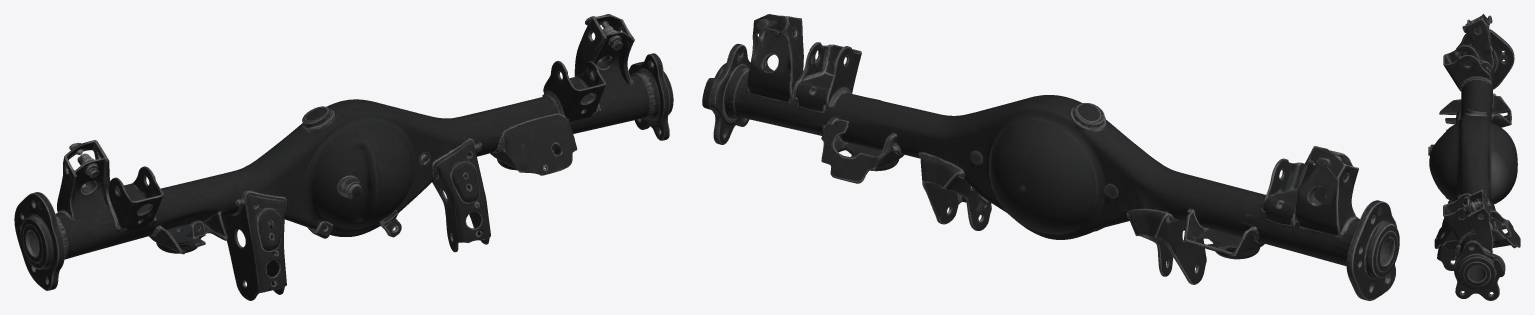
The model's file is rearaxle.glb.
The picture shows the model from 3 angles, left to right: view 1: azimuth 30°, elevation 25°; view 2: azimuth 150°, elevation 25°; view 3: azimuth 270°, elevation 25°; orthographic projection. The views are drawn at different scales.
Size of the model in its own units: 1.9 by 0.516 by 0.3424.
Materials: 1 (1 with a texture image).
